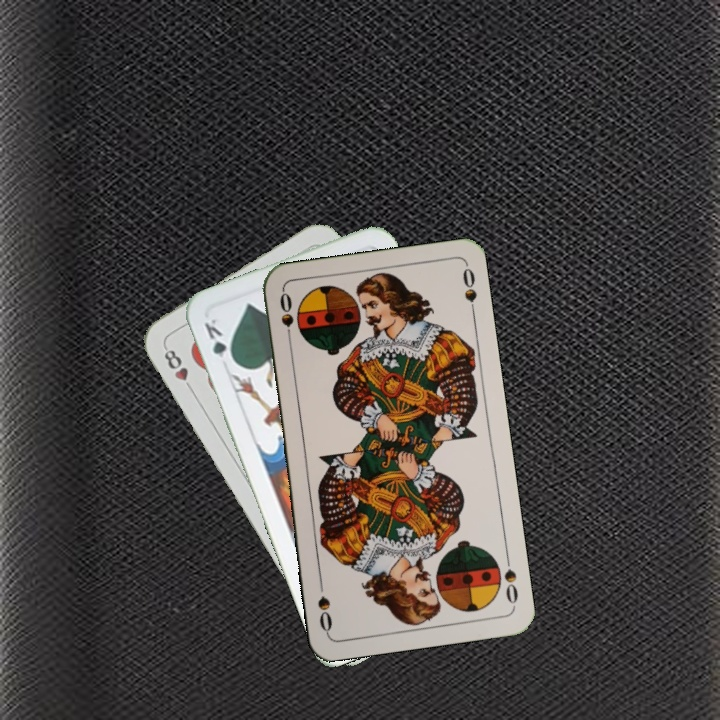GK: (200, 314, 238, 367)
H8: (160, 342, 197, 395)
SO: (275, 288, 296, 347), (500, 550, 521, 609)
